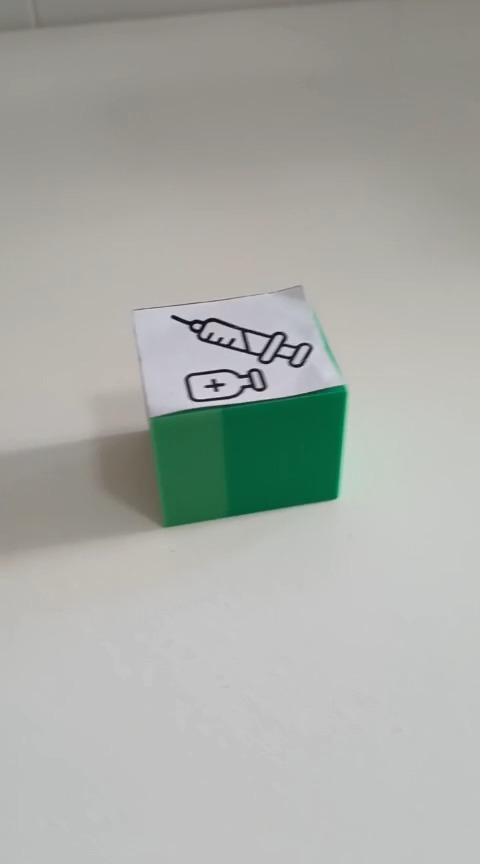antiseptic cream: (129, 282, 349, 527)
